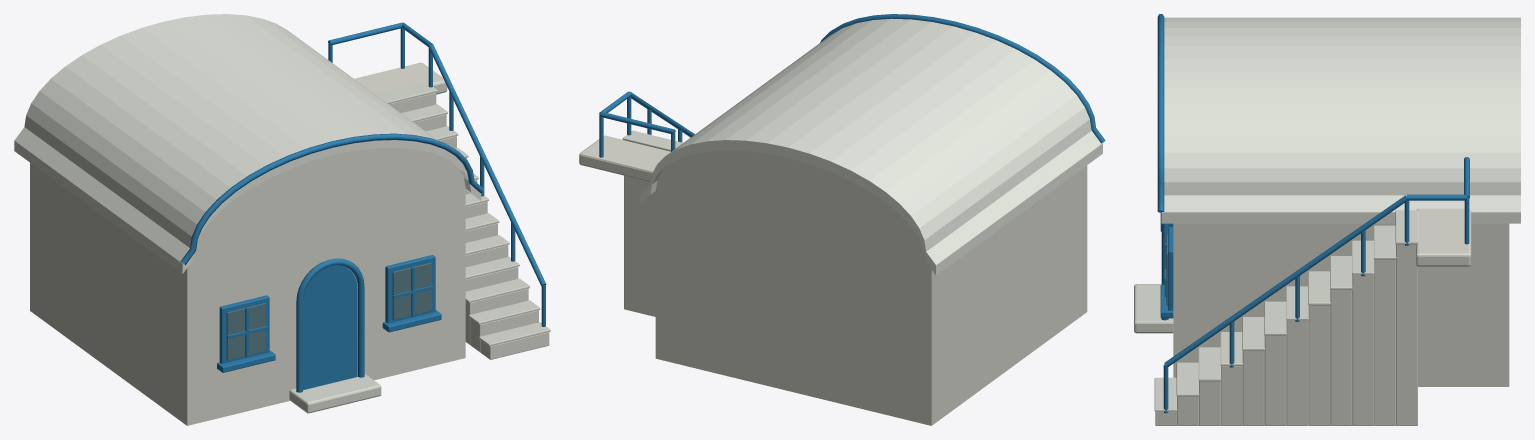
Rendered from small_greek_barrel_roof.glb.
3 renders of one model, left to right at view 1: azimuth 30°, elevation 25°; view 2: azimuth 150°, elevation 25°; view 3: azimuth 270°, elevation 25°, orthographic. The views are drawn at different scales.
Visible parts, largest first — view 1: Barrel house closed vaulted masonry body, Barrel house thick curved roof, Barrel house closed arched entry door, Barrel house blue front vault edging, Barrel house front shallow step, Barrel house rounded blue door arch, Barrel house blue framed window dark glazing, Barrel house blue framed window dark glazing.001, Barrel house upper stair landing, Barrel house blue stair handrail, Barrel house blue framed window timber surround, Barrel house blue framed window timber surround.001 (+14 smaller); view 2: Barrel house closed vaulted masonry body, Barrel house thick curved roof, Barrel house external masonry stair step.011, Barrel house upper stair landing, Barrel house blue front vault edging, Barrel house stair tread cap.011; view 3: Barrel house thick curved roof, Barrel house closed vaulted masonry body, Barrel house external masonry stair step.011, Barrel house external masonry stair step.010, Barrel house external masonry stair step.009, Barrel house external masonry stair step.008, Barrel house upper stair landing, Barrel house external masonry stair step.007, Barrel house external masonry stair step.006, Barrel house external masonry stair step.005, Barrel house blue stair handrail, Barrel house external masonry stair step.004 (+19 smaller).
Boxes of the visible parts, x1,y1,x2,y2 form: Barrel house closed vaulted masonry body: (30,147,465,425); Barrel house thick curved roof: (14,14,481,273); Barrel house closed arched entry door: (303,265,357,389); Barrel house blue front vault edging: (180,133,483,264); Barrel house front shallow step: (289,373,381,413); Barrel house rounded blue door arch: (296,258,364,392); Barrel house blue framed window dark glazing: (226,303,265,360); Barrel house blue framed window dark glazing.001: (392,262,431,319); Barrel house upper stair landing: (354,62,447,94); Barrel house blue stair handrail: (428,44,546,286); Barrel house blue framed window timber surround: (219,295,269,363); Barrel house blue framed window timber surround.001: (385,255,435,323); Barrel house closed vaulted masonry body: (655,150,1087,425); Barrel house thick curved roof: (640,18,1102,275); Barrel house external masonry stair step.011: (624,175,655,316); Barrel house upper stair landing: (579,135,670,181); Barrel house blue front vault edging: (820,14,1105,143); Barrel house stair tread cap.011: (622,130,682,151); Barrel house thick curved roof: (1161,17,1520,223); Barrel house closed vaulted masonry body: (1173,223,1509,386); Barrel house external masonry stair step.011: (1396,244,1417,425); Barrel house external masonry stair step.010: (1374,259,1395,425); Barrel house external masonry stair step.009: (1352,274,1374,425); Barrel house external masonry stair step.008: (1330,290,1352,425); Barrel house upper stair landing: (1416,208,1471,266); Barrel house external masonry stair step.007: (1308,305,1330,425); Barrel house external masonry stair step.006: (1286,320,1308,425); Barrel house external masonry stair step.005: (1264,335,1286,425); Barrel house blue stair handrail: (1164,195,1407,367); Barrel house external masonry stair step.004: (1242,351,1264,425).
Bounding box in the file's own units: 6.52 × 4.1 × 5.3.
